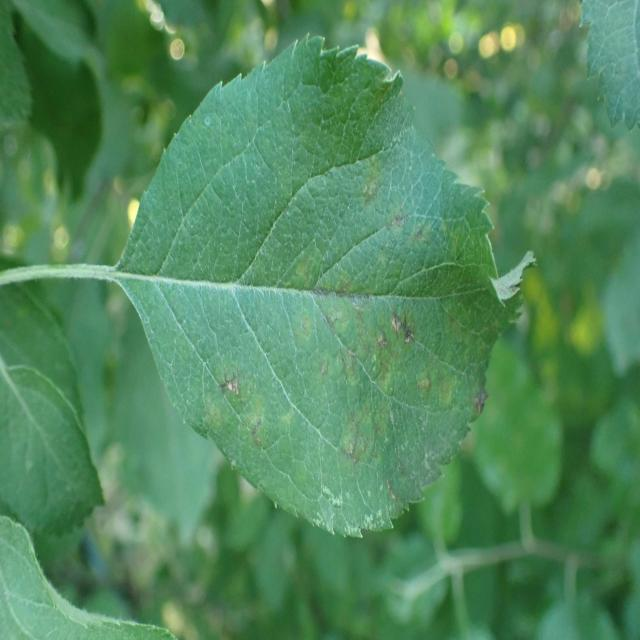scab: (168, 110, 509, 530)
